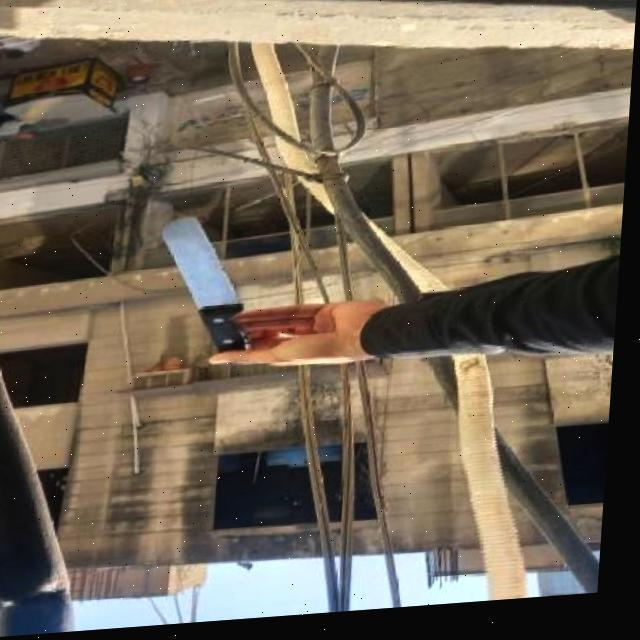knife: (158, 216, 263, 376)
